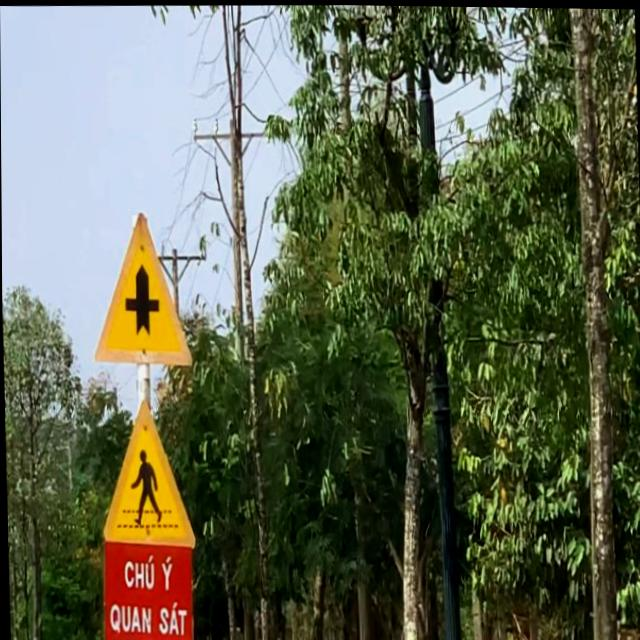Giao nhau voi duong khong uu tien: (81, 190, 196, 380)
Nguoi di bo cat ngang: (90, 386, 202, 556)
